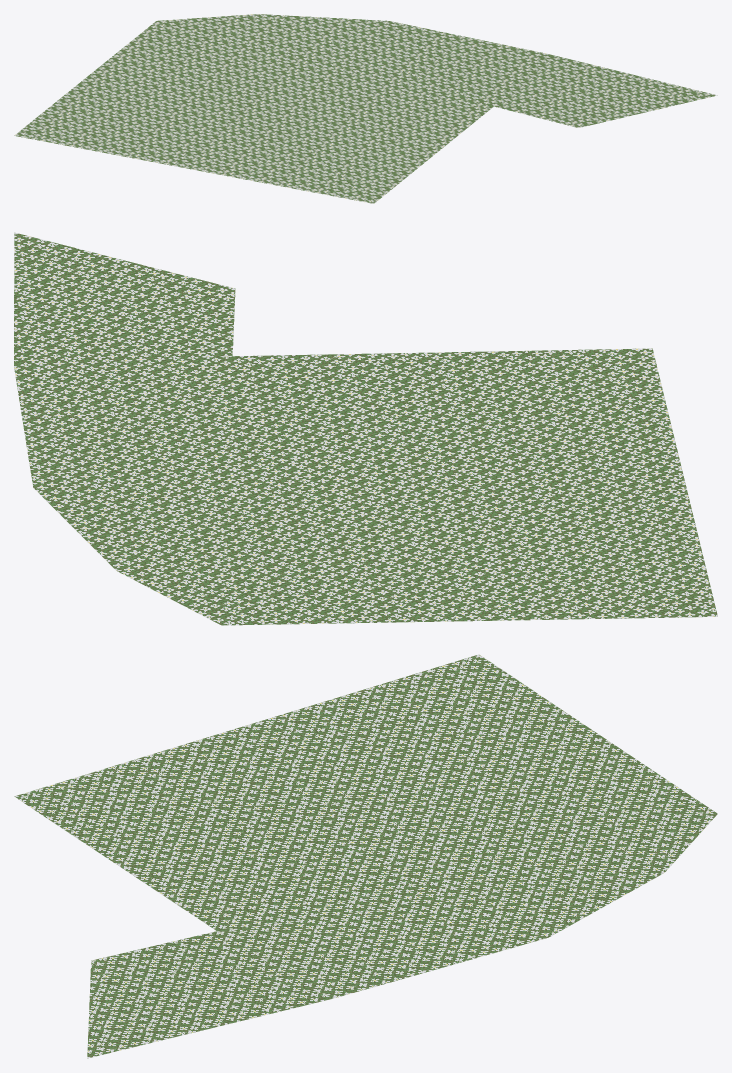
The model's file is kd_stage_1366d7_21_12.glb.
The picture shows the model from 3 angles, top to bottom: view 1: azimuth 30°, elevation 25°; view 2: azimuth 150°, elevation 25°; view 3: azimuth 270°, elevation 25°; orthographic projection. The views are drawn at different scales.
Visible parts, largest first — view 1: kd_stage_1366d7_21_12; view 2: kd_stage_1366d7_21_12; view 3: kd_stage_1366d7_21_12.
Boxes of the visible parts, x1=… form: kd_stage_1366d7_21_12: x1=14, y1=14, x2=717, y2=203; kd_stage_1366d7_21_12: x1=14, y1=232, x2=717, y2=625; kd_stage_1366d7_21_12: x1=14, y1=654, x2=717, y2=1058.
Bounding box in the file's own units: 35.54 × 2.5e-06 × 26.16.
1 material, 1 textured.
